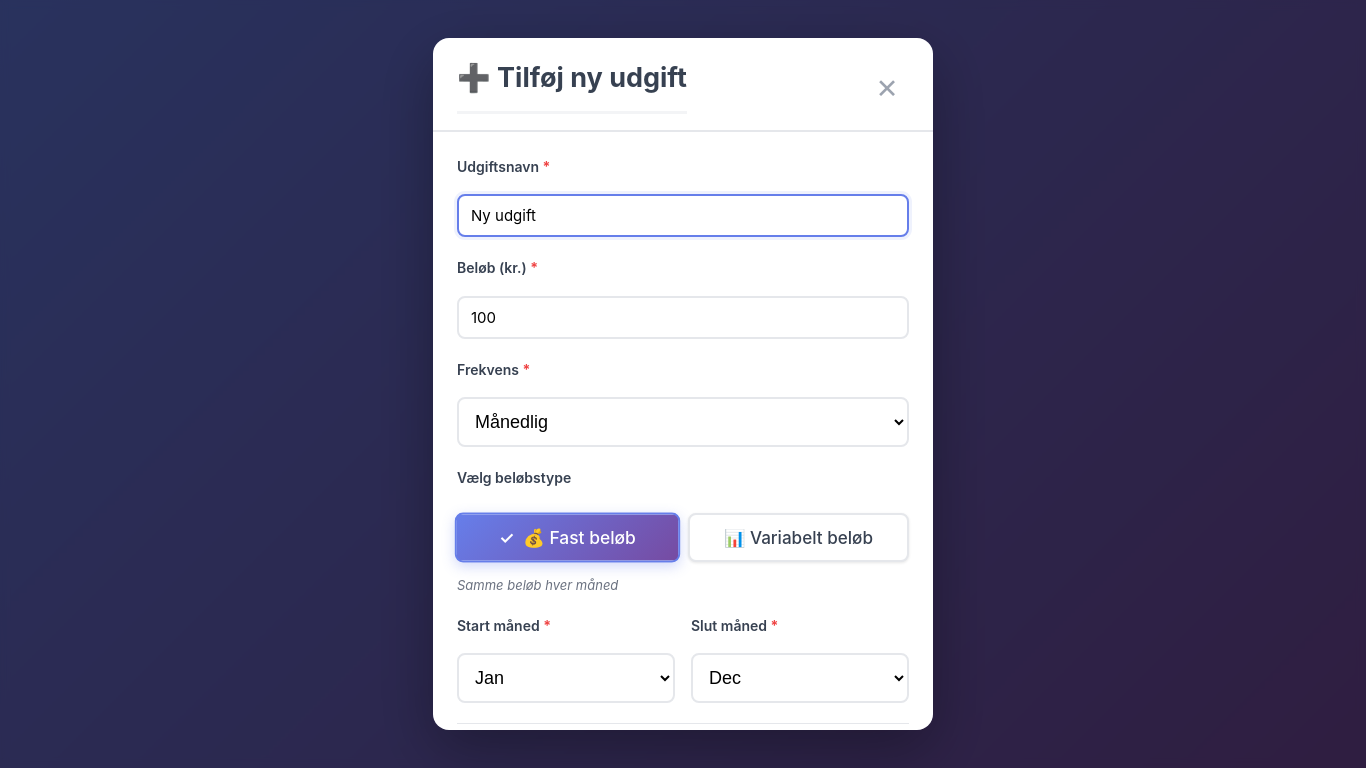
Test: AddExpenseModal › Amount Field Validation › should show error for negative amount
The image size is (1366, 768).
Replace the text in the field labelled "Beløb (kr.) *" with "-100" at (683, 317), box [457,296,909,339]
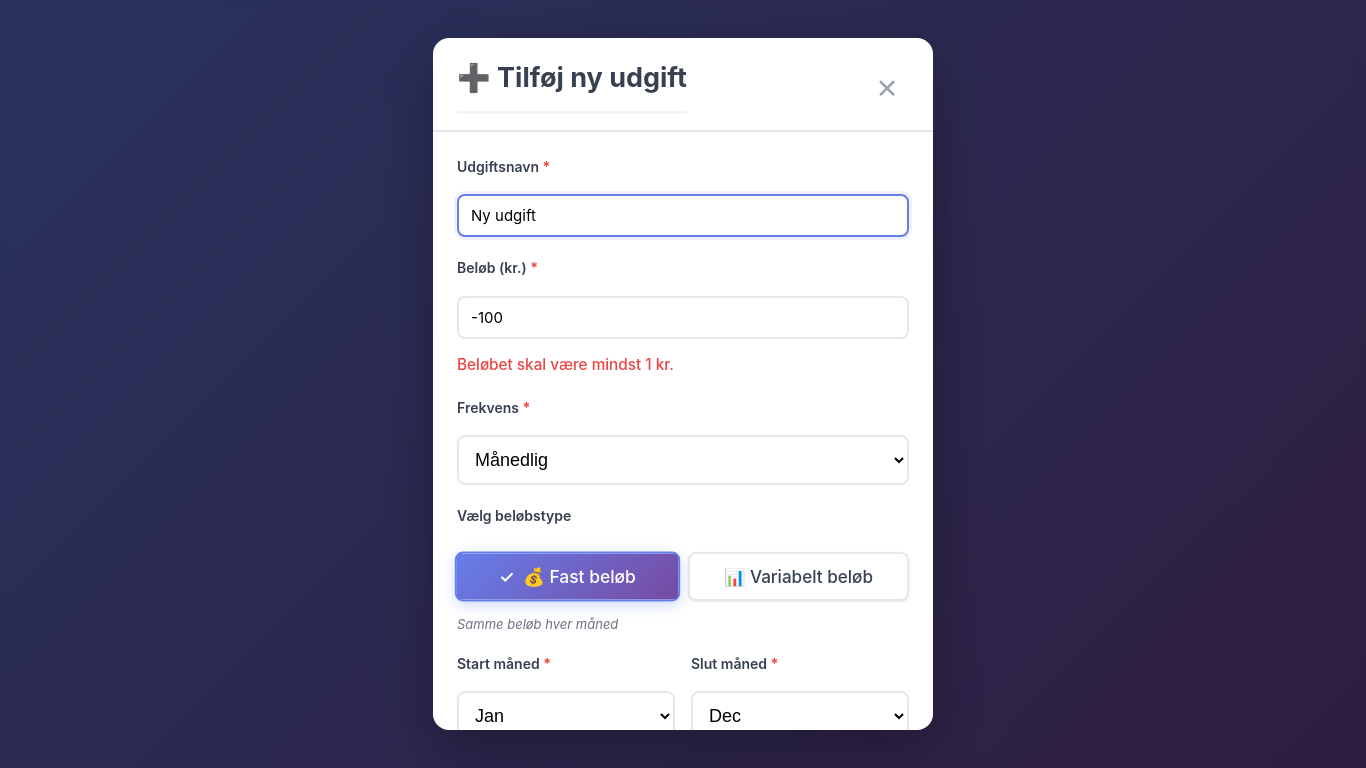
Check: the text "Beløbet skal være mindst 1 kr." is shown, box [457,355,674,374]
